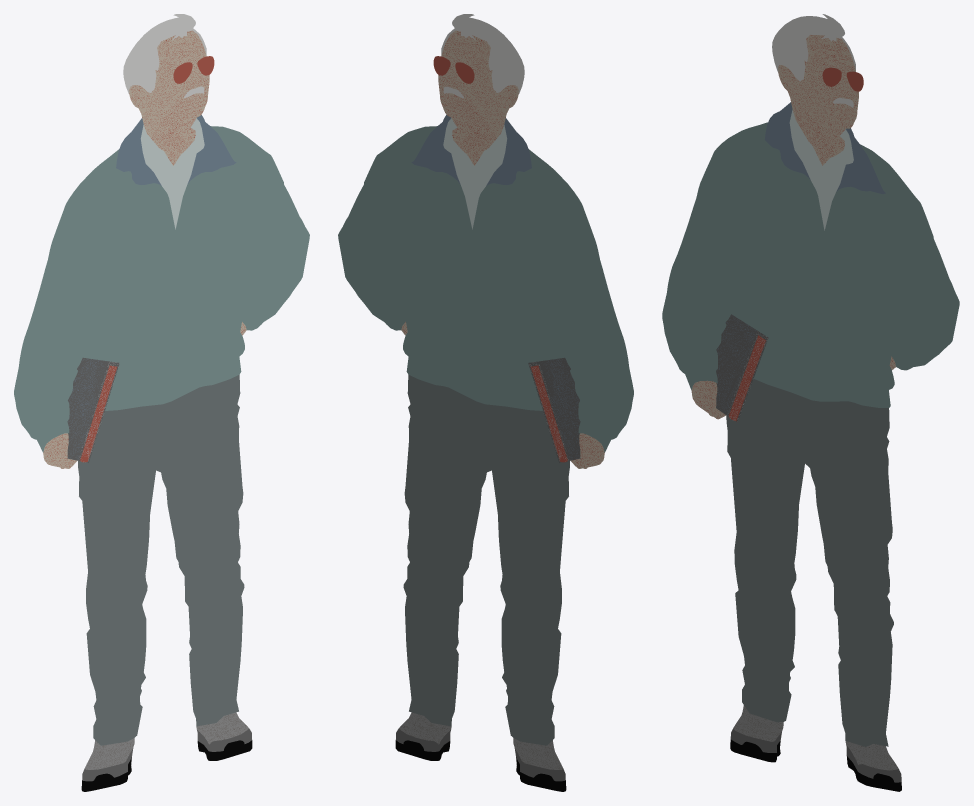
File: ReferenceHuman_170cm.glb
3 views of the same model, side by side, from view 1: azimuth 30°, elevation 25°; view 2: azimuth 150°, elevation 25°; view 3: azimuth 330°, elevation 25° (orthographic).
Parts seen in each view (by area): view 1: instance_2.020; view 2: instance_2.020; view 3: instance_2.020.
Part boxes in pixels (x1,y1,x2,y2): instance_2.020: [14, 14, 309, 791]; instance_2.020: [338, 14, 633, 791]; instance_2.020: [662, 14, 959, 791].
Bounding box in the file's own units: 27.81 × 68.04 × 0.
